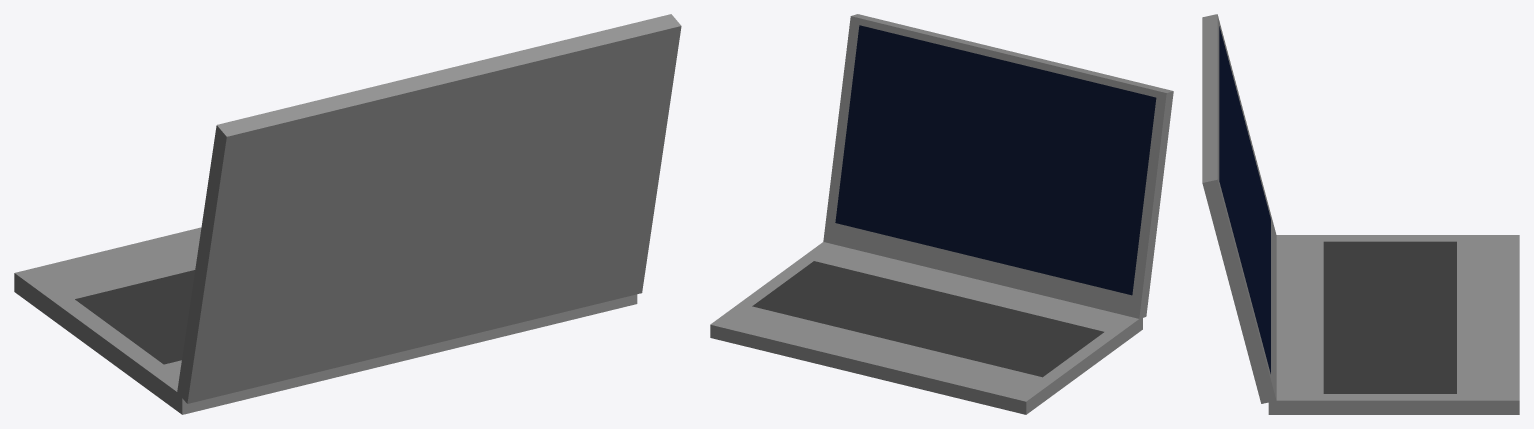
File: Laptop_01_snaps001.fbx
3 renders of one model, left to right at view 1: azimuth 30°, elevation 25°; view 2: azimuth 150°, elevation 25°; view 3: azimuth 270°, elevation 25°, orthographic. The views are drawn at different scales.
Parts seen in each view (by area): view 1: Laptop_01_snaps001; view 2: Laptop_01_snaps001; view 3: Laptop_01_snaps001.
Boxes of the visible parts, <box> form: Laptop_01_snaps001: <box>14,14,681,414</box>; Laptop_01_snaps001: <box>710,14,1173,414</box>; Laptop_01_snaps001: <box>1202,14,1519,414</box>.
Bounding box in the file's own units: 39.06 × 25.86 × 31.61.
